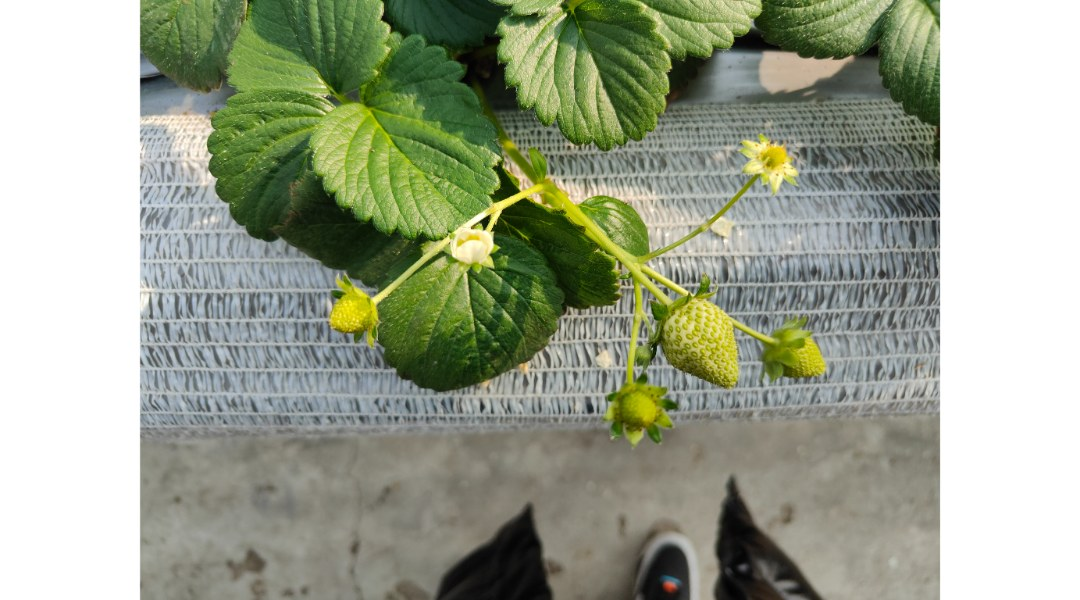berry: (642, 278, 745, 404), (315, 276, 384, 355), (761, 320, 836, 386), (605, 372, 670, 446), (733, 133, 805, 189), (441, 219, 511, 269)
strain: (640, 177, 756, 263), (366, 248, 436, 309), (622, 285, 643, 397), (491, 189, 536, 208)
